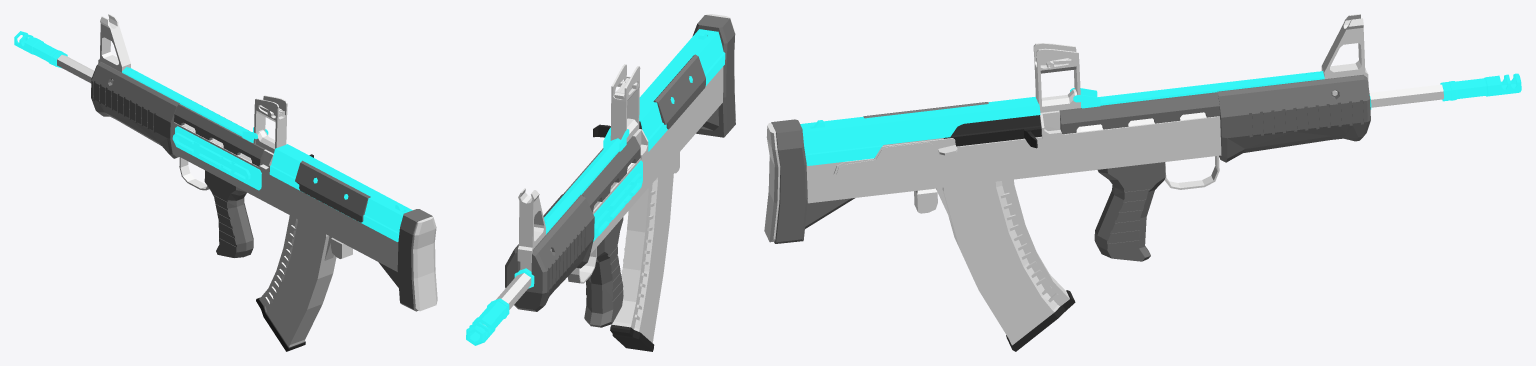
Rendered from karabin.glb.
3 renders of one model, left to right at view 1: azimuth 30°, elevation 25°; view 2: azimuth 150°, elevation 25°; view 3: azimuth 270°, elevation 25°, orthographic. The views are drawn at different scales.
Parts seen in each view (by area): view 1: Cube_004_Material_0, Cube_004_Material_004_0, Cube_004_Material_005_0, Cube_004_Material_007_0, Cube_004_Material_006_0; view 2: Cube_004_Material_0, Cube_004_Material_004_0, Cube_004_Material_005_0, Cube_004_Material_007_0, Cube_004_Material_006_0; view 3: Cube_004_Material_004_0, Cube_004_Material_0, Cube_004_Material_007_0, Cube_004_Material_005_0, Cube_004_Material_010_0, Cube_004_Material_006_0.
Part boxes in pixels (left/top/right/bottom): Cube_004_Material_0: left=91, top=61, right=432, bottom=311; Cube_004_Material_004_0: left=57, top=14, right=437, bottom=311; Cube_004_Material_005_0: left=14, top=31, right=412, bottom=241; Cube_004_Material_007_0: left=259, top=215, right=336, bottom=347; Cube_004_Material_006_0: left=256, top=297, right=305, bottom=351; Cube_004_Material_0: left=505, top=15, right=735, bottom=327; Cube_004_Material_004_0: left=483, top=14, right=735, bottom=325; Cube_004_Material_005_0: left=466, top=29, right=725, bottom=345; Cube_004_Material_007_0: left=612, top=158, right=674, bottom=343; Cube_004_Material_006_0: left=610, top=324, right=654, bottom=351; Cube_004_Material_004_0: left=764, top=14, right=1443, bottom=242; Cube_004_Material_0: left=771, top=74, right=1370, bottom=261; Cube_004_Material_007_0: left=936, top=179, right=1069, bottom=345; Cube_004_Material_005_0: left=800, top=71, right=1521, bottom=165; Cube_004_Material_010_0: left=943, top=115, right=1041, bottom=148; Cube_004_Material_006_0: left=1006, top=290, right=1075, bottom=351.
Bounding box in the file's own units: 0.4163 × 0.7795 × 1.78.
